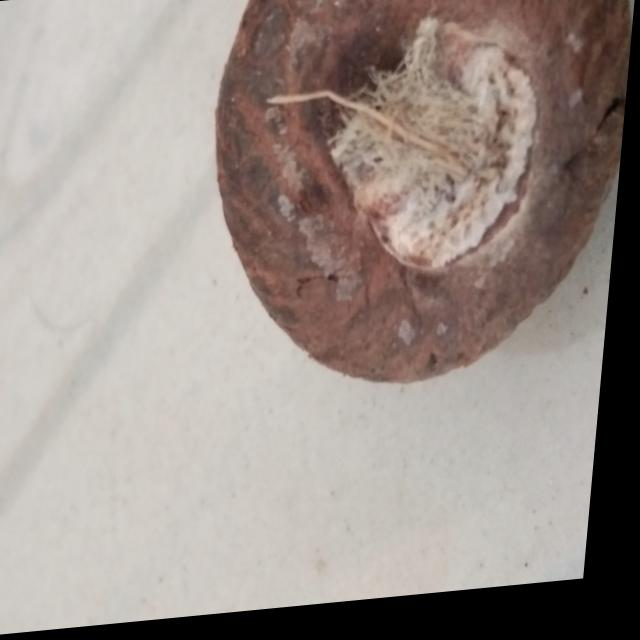karigot: (175, 0, 640, 435)
